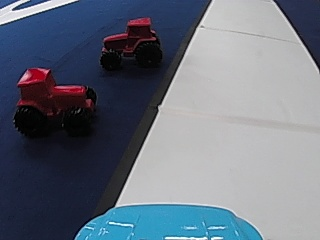tractor: (12, 65, 99, 137), (96, 16, 163, 70)
